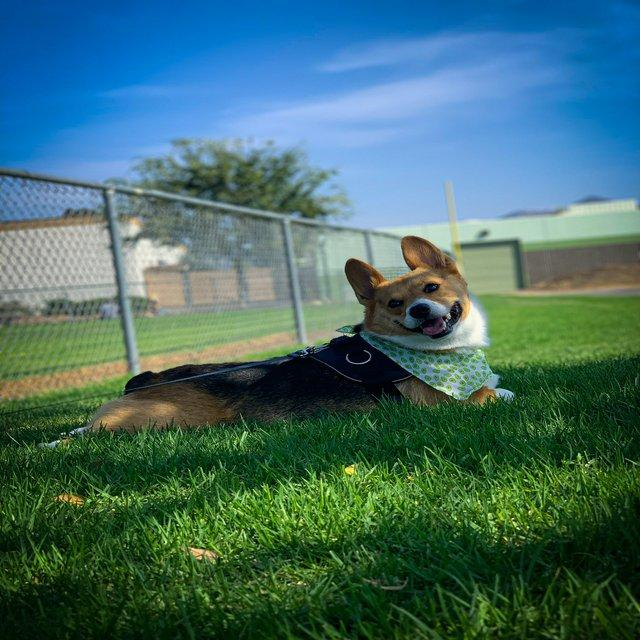corgi: (64, 234, 514, 440)
